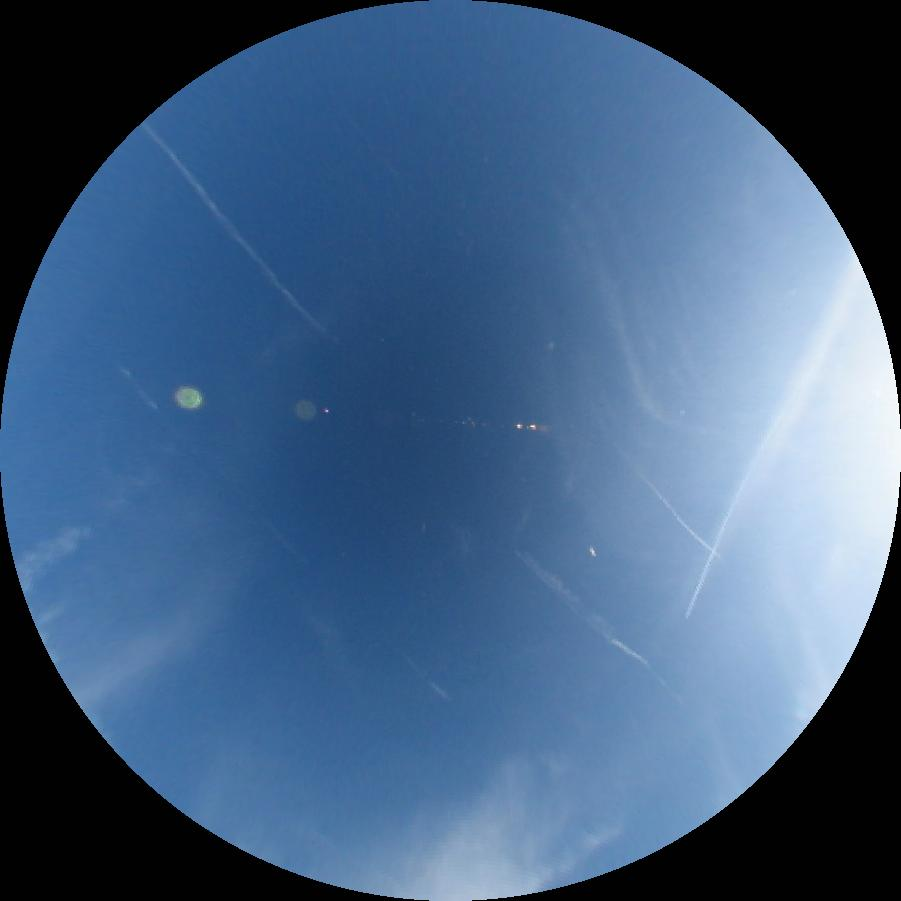contrail old: (684, 401, 790, 620), (613, 442, 722, 558)
contrail veryold: (140, 119, 684, 704), (118, 367, 452, 701)
